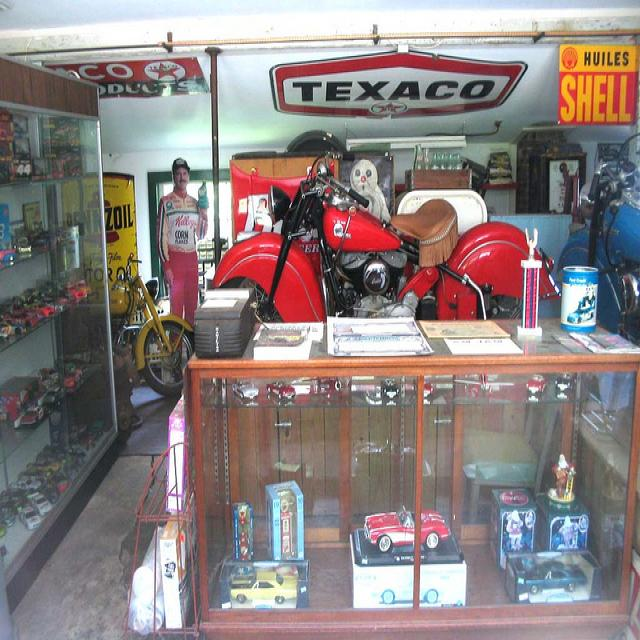motor: (212, 159, 534, 322), (560, 154, 640, 347), (110, 250, 195, 398)
